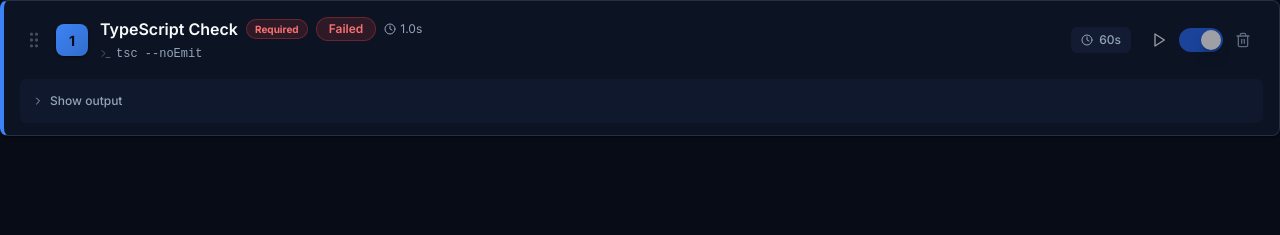
Test: QAGateCard › Execution Output › displays error with correct label
The image size is (1280, 235).
Click the button "Show output". click: (86, 100)
box: [20, 79, 1263, 123]
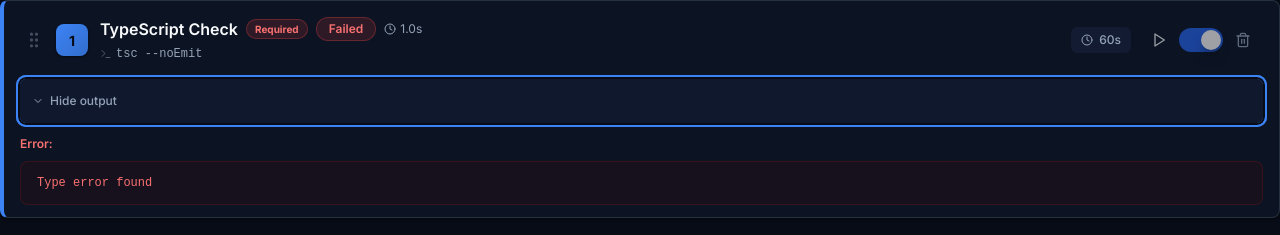
Expected: the text "Error:" is shown, [20, 136, 53, 151]
Expected: the text "Type error found" is shown, [37, 176, 152, 190]
